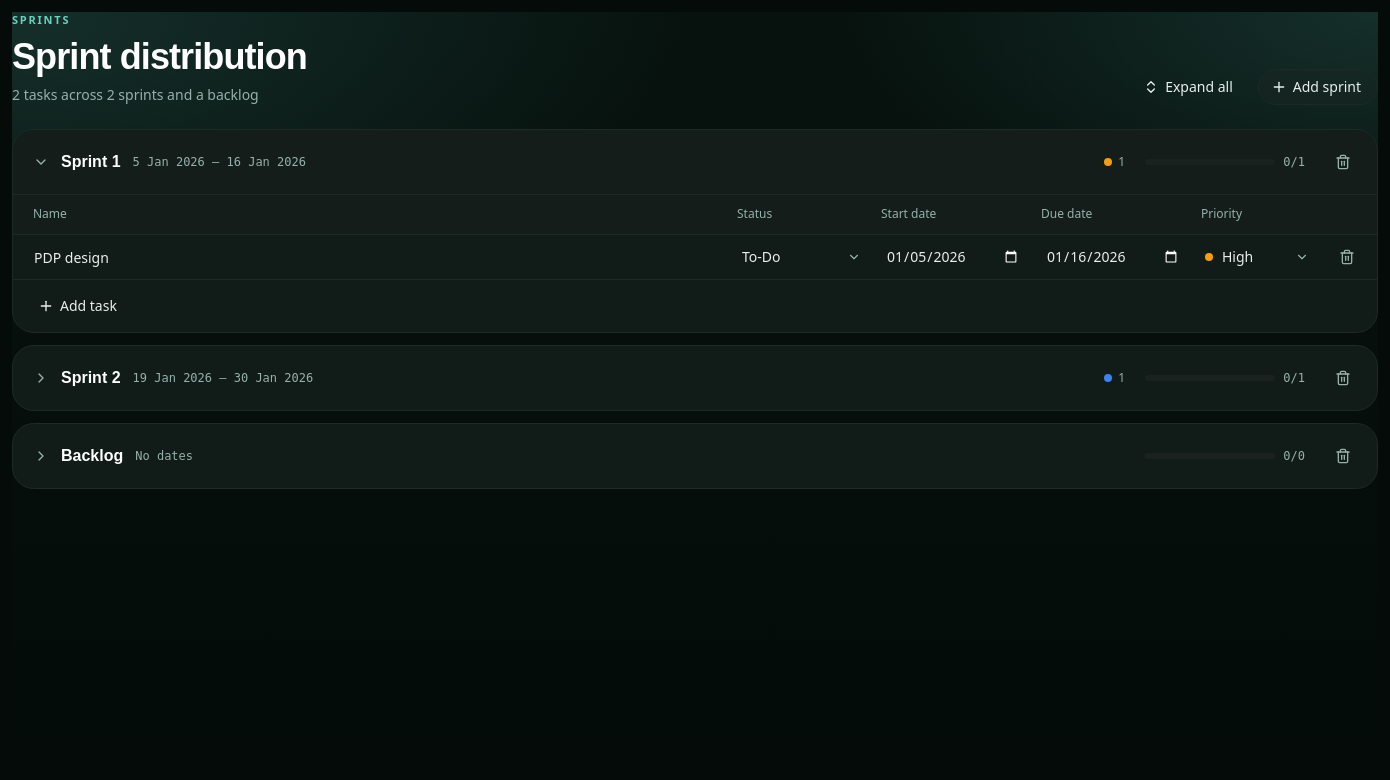
Sprints › adds a sprint before the backlog, opened
The width and height of the screenshot is (1390, 780).
What coordinates should you click on to do the following:
click the button "Add sprint"
I would click on:
 (1318, 86)
Its box is [1258,68,1378,104].
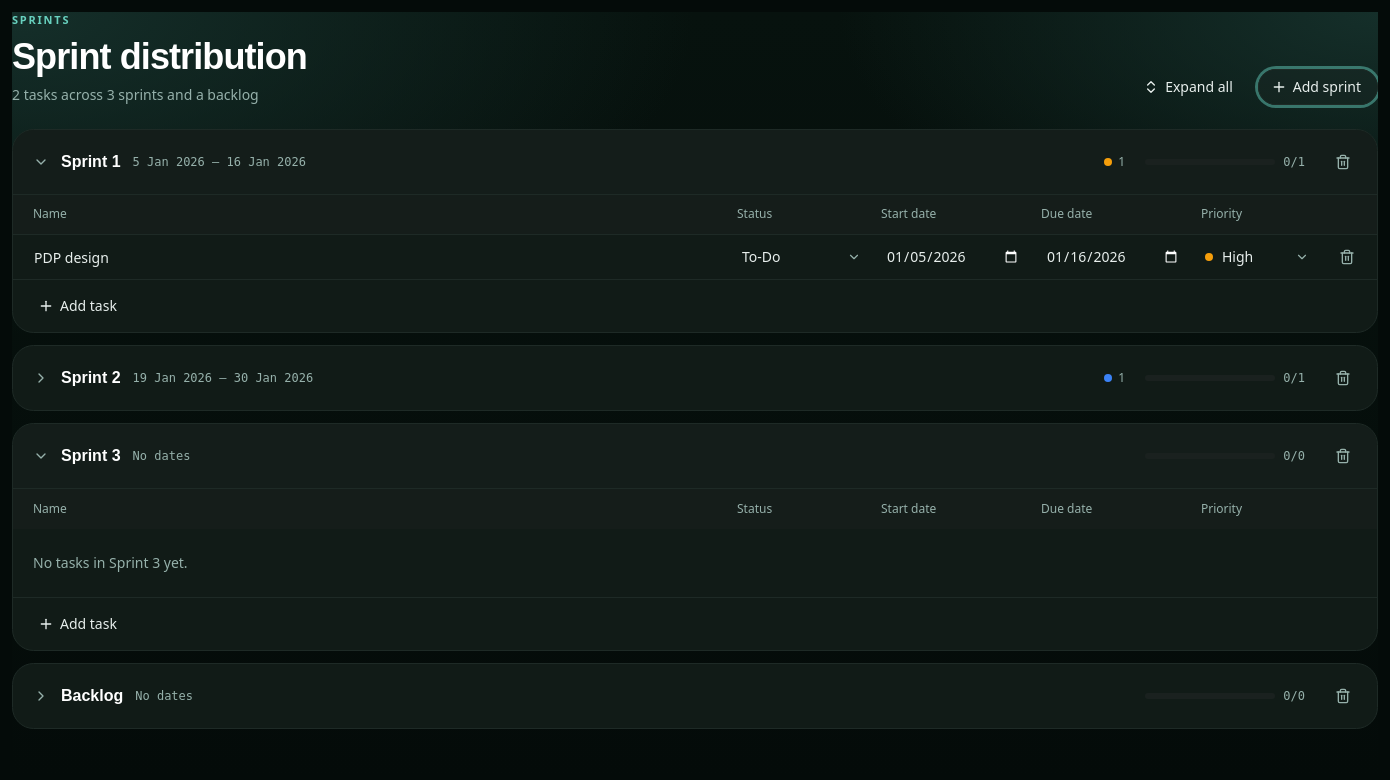
Expected: the text "No tasks in Sprint 3 yet." is shown, [13,529,1377,597]
